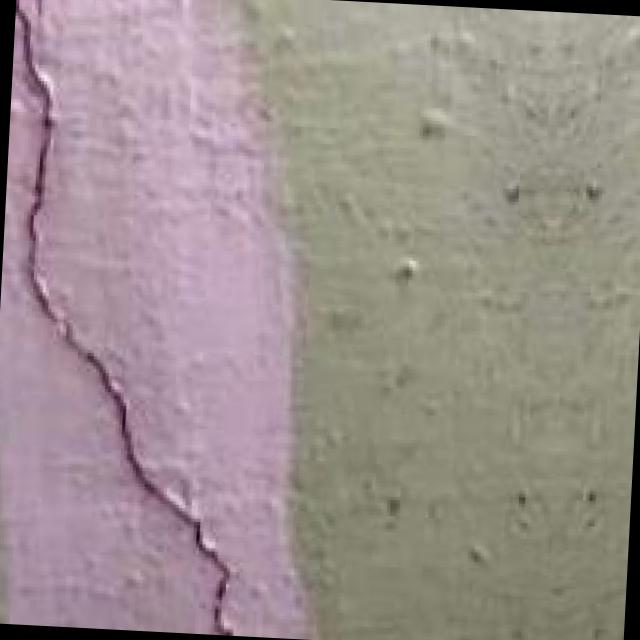crack: (0, 0, 301, 634)
